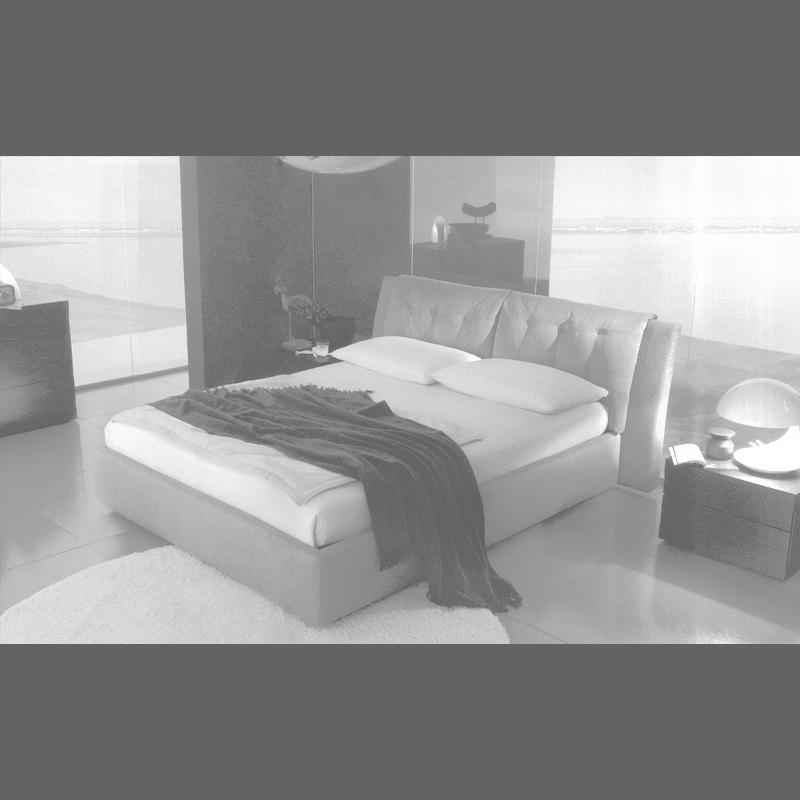pillow: (428, 358, 612, 418), (328, 334, 484, 386)
